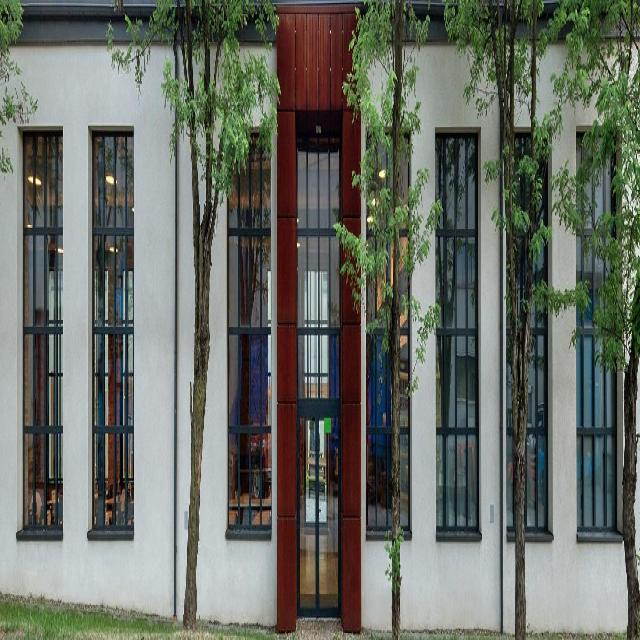door: (296, 400, 341, 623)
window: (225, 130, 272, 529), (91, 125, 135, 534), (22, 128, 65, 537), (368, 132, 412, 528), (435, 134, 478, 525), (577, 151, 618, 534), (509, 141, 548, 539), (296, 133, 340, 400)
